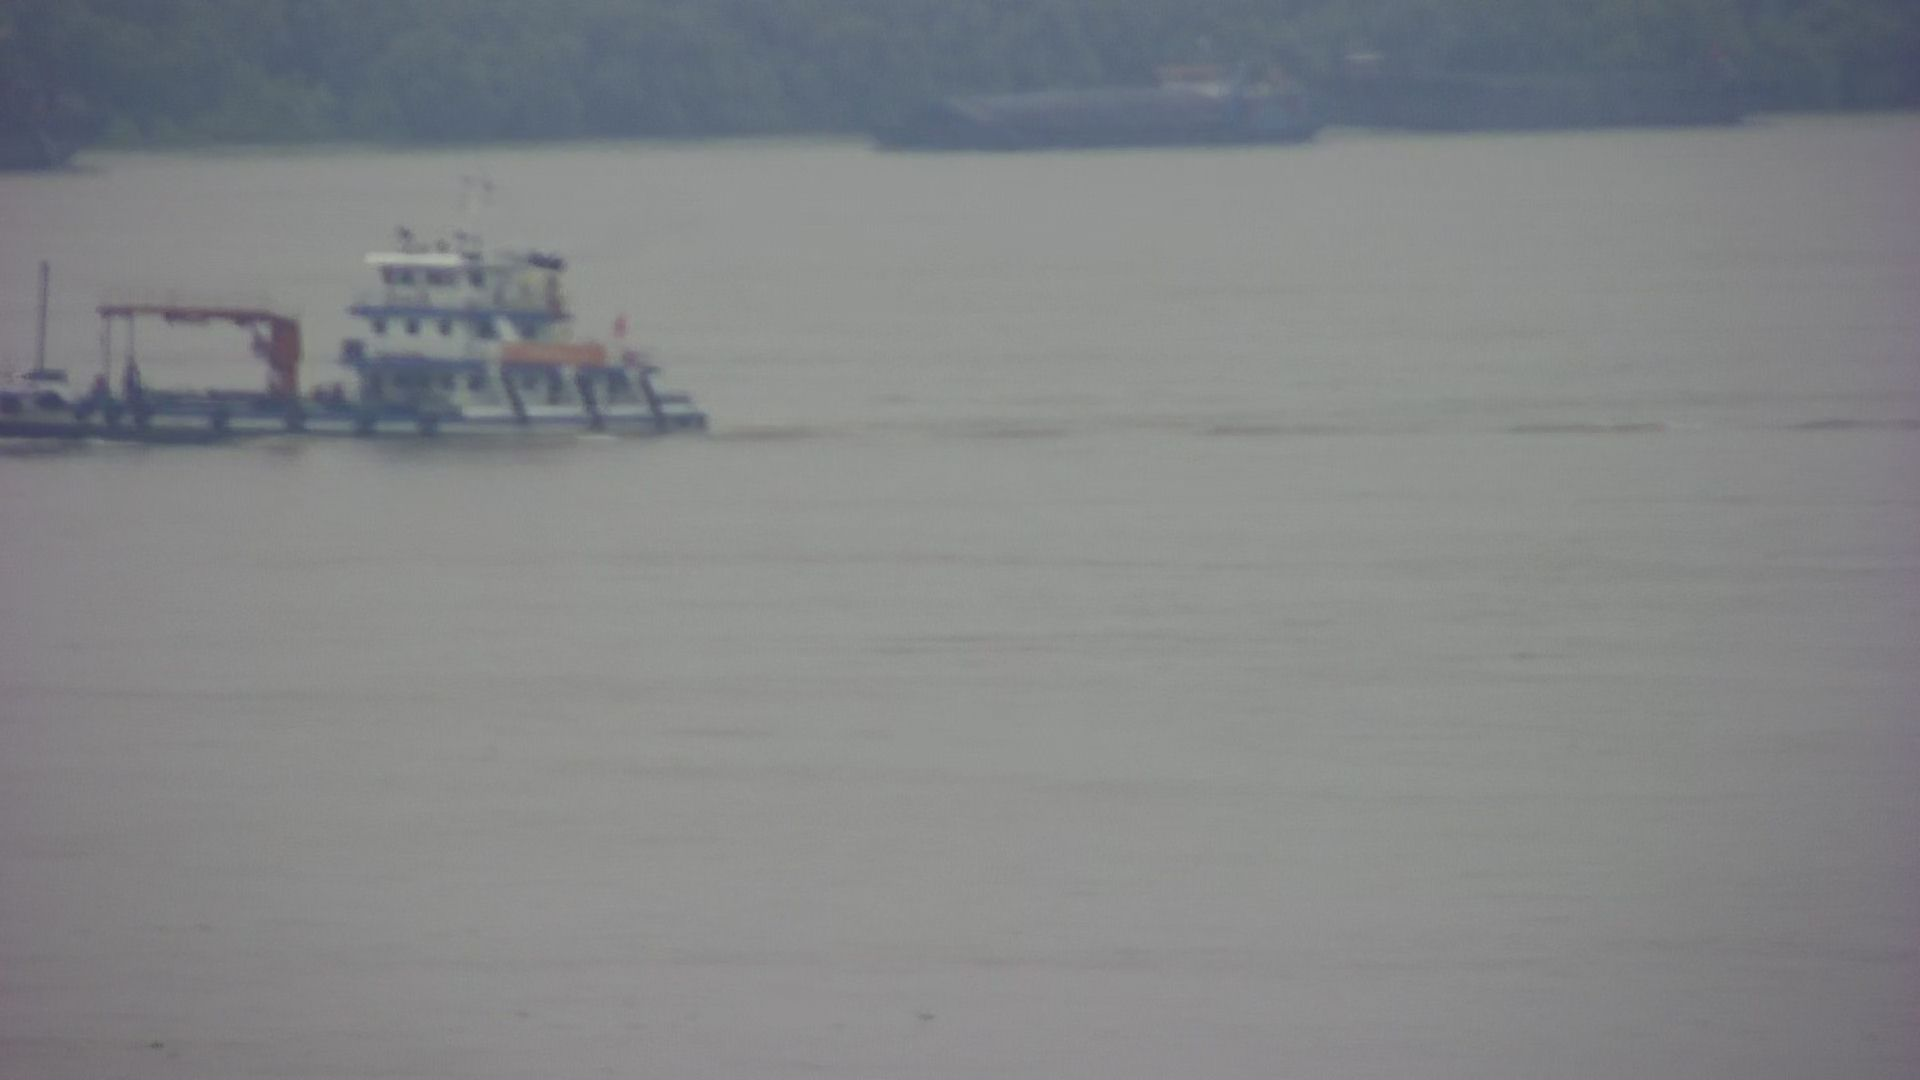ship: (1, 200, 738, 465), (851, 1, 1346, 169), (1342, 5, 1789, 138)
